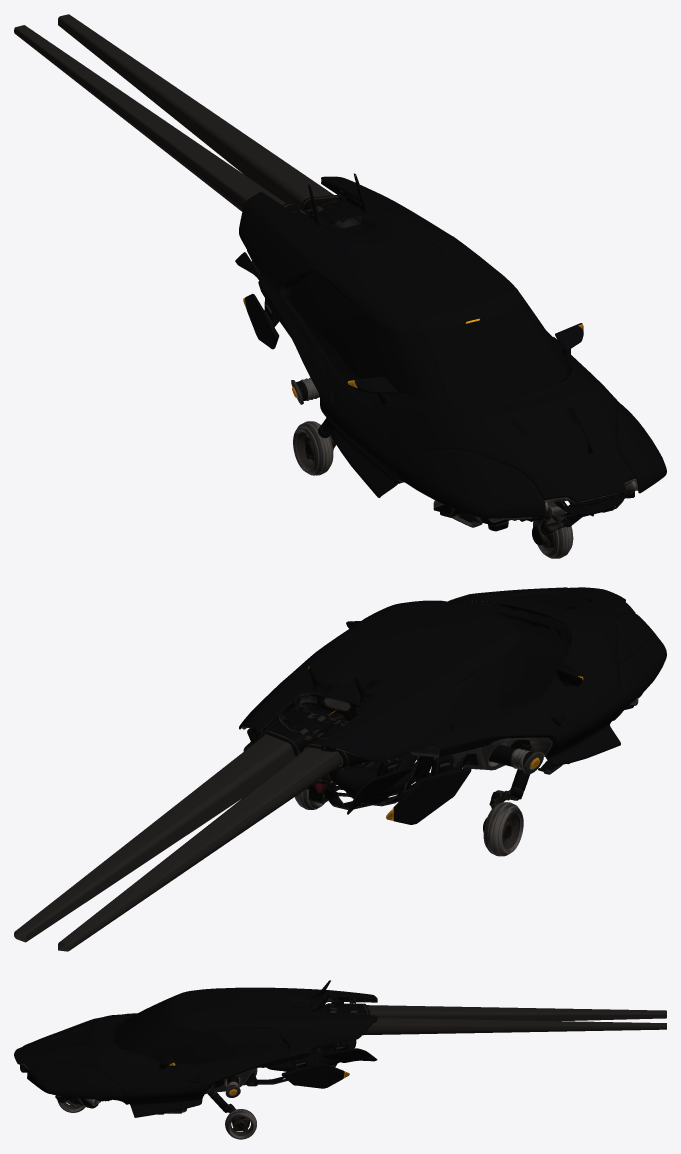
File: cybercar-compressed.glb
The picture shows the model from 3 angles, top to bottom: view 1: azimuth 30°, elevation 25°; view 2: azimuth 150°, elevation 25°; view 3: azimuth 270°, elevation 25°; orthographic projection. The views are drawn at different scales.
Parts seen in each view (by area): view 1: car019, boost-trail, car001, car002, car018, Cylinder026, Plane002, Plane004, Torus002_1_1, Cylinder014, Cylinder024; view 2: car019, boost-trail, car018, car001, Cylinder014, Cube005, Cylinder026, car016, Cylinder016, car006, car, Torus002_1_1 (+4 smaller); view 3: car019, boost-trail, car001, car002, Cylinder001, car018, Cylinder015, Plane004, Cylinder016, Cylinder019, Torus000_0, Cube005 (+6 smaller).
Part boxes in pixels (x1=…): car019: x1=239, y1=173, x2=635, y2=514; boost-trail: x1=14, y1=14, x2=333, y2=211; car001: x1=449, y1=373, x2=625, y2=502; car002: x1=415, y1=306, x2=562, y2=402; car018: x1=320, y1=214, x2=441, y2=270; Cylinder026: x1=392, y1=451, x2=504, y2=516; Plane002: x1=427, y1=448, x2=542, y2=504; Plane004: x1=617, y1=404, x2=654, y2=476; Torus002_1_1: x1=293, y1=421, x2=333, y2=475; Cylinder014: x1=243, y1=293, x2=279, y2=349; Cylinder024: x1=477, y1=498, x2=545, y2=519; car019: x1=239, y1=587, x2=635, y2=765; boost-trail: x1=14, y1=734, x2=342, y2=951; car018: x1=320, y1=637, x2=441, y2=695; car001: x1=453, y1=587, x2=625, y2=633; Cylinder014: x1=386, y1=755, x2=471, y2=824; Cube005: x1=264, y1=708, x2=370, y2=768; Cylinder026: x1=612, y1=634, x2=666, y2=720; car016: x1=308, y1=753, x2=560, y2=809; Cylinder016: x1=307, y1=751, x2=421, y2=804; car006: x1=241, y1=601, x2=617, y2=770; car: x1=251, y1=693, x2=364, y2=751; Torus002_1_1: x1=483, y1=802, x2=523, y2=856; car019: x1=20, y1=980, x2=377, y2=1117; boost-trail: x1=362, y1=1005, x2=666, y2=1035; car001: x1=14, y1=1014, x2=122, y2=1063; car002: x1=117, y1=997, x2=173, y2=1050; Cylinder001: x1=42, y1=1077, x2=129, y2=1104; car018: x1=241, y1=992, x2=310, y2=1014; Cylinder015: x1=281, y1=1058, x2=349, y2=1088; Plane004: x1=31, y1=1062, x2=107, y2=1080; Cylinder016: x1=266, y1=1039, x2=356, y2=1071; Cylinder019: x1=323, y1=1042, x2=377, y2=1062; Torus000_0: x1=225, y1=1109, x2=256, y2=1139; Cube005: x1=312, y1=1003, x2=370, y2=1048.
Size of what is drawn, in the model's own units: 2.84 by 2.38 by 11.23.
Materials: 6 (3 with a texture image).
